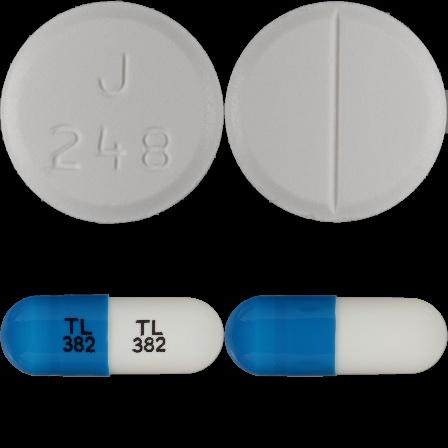59746-248: (0, 0, 224, 224)
